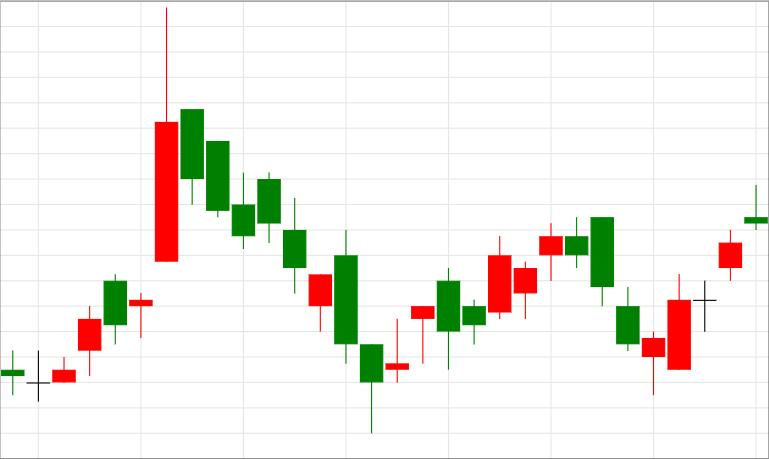hammer_rise: (181, 109, 383, 433)
